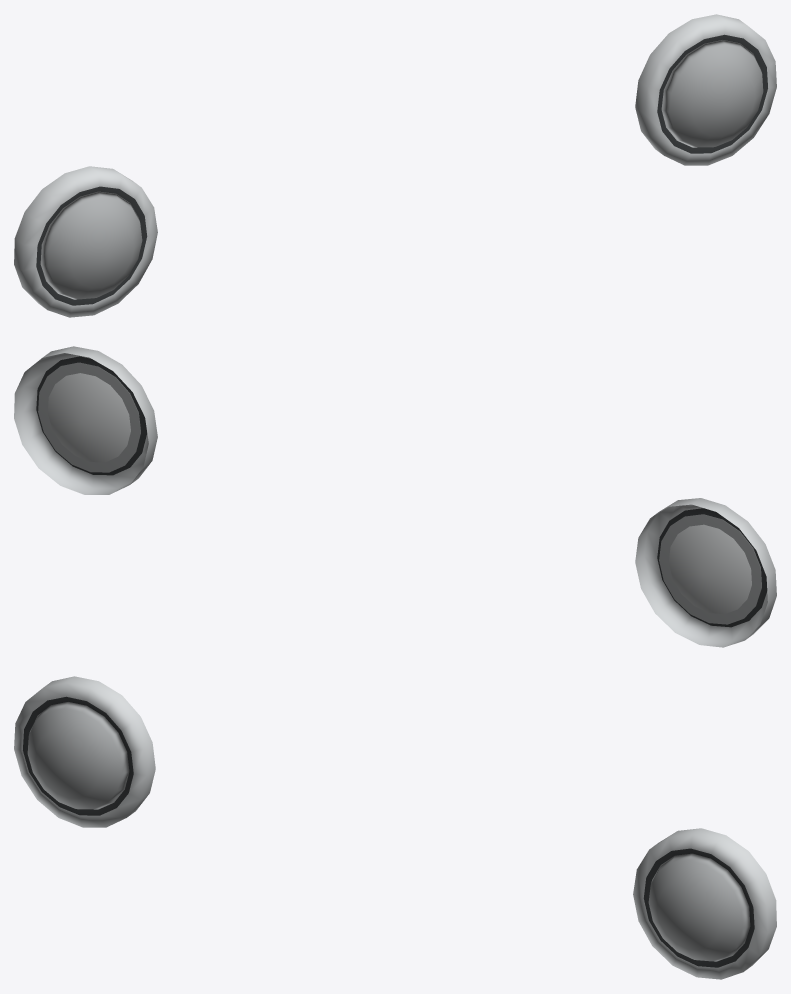
The model's file is Car_03_Headlight_Simple.fbx.
3 views of the same model, one above another, from view 1: azimuth 30°, elevation 25°; view 2: azimuth 150°, elevation 25°; view 3: azimuth 330°, elevation 25° (orthographic).
Visible parts, largest first — view 1: Car_03_Headlight_Simple; view 2: Car_03_Headlight_Simple; view 3: Car_03_Headlight_Simple.
Boxes of the visible parts, x1=… form: Car_03_Headlight_Simple: x1=14, y1=14, x2=776, y2=317; Car_03_Headlight_Simple: x1=14, y1=346, x2=776, y2=647; Car_03_Headlight_Simple: x1=14, y1=676, x2=776, y2=979.
Bounding box in the file's own units: 182 × 11.01 × 32.29.
